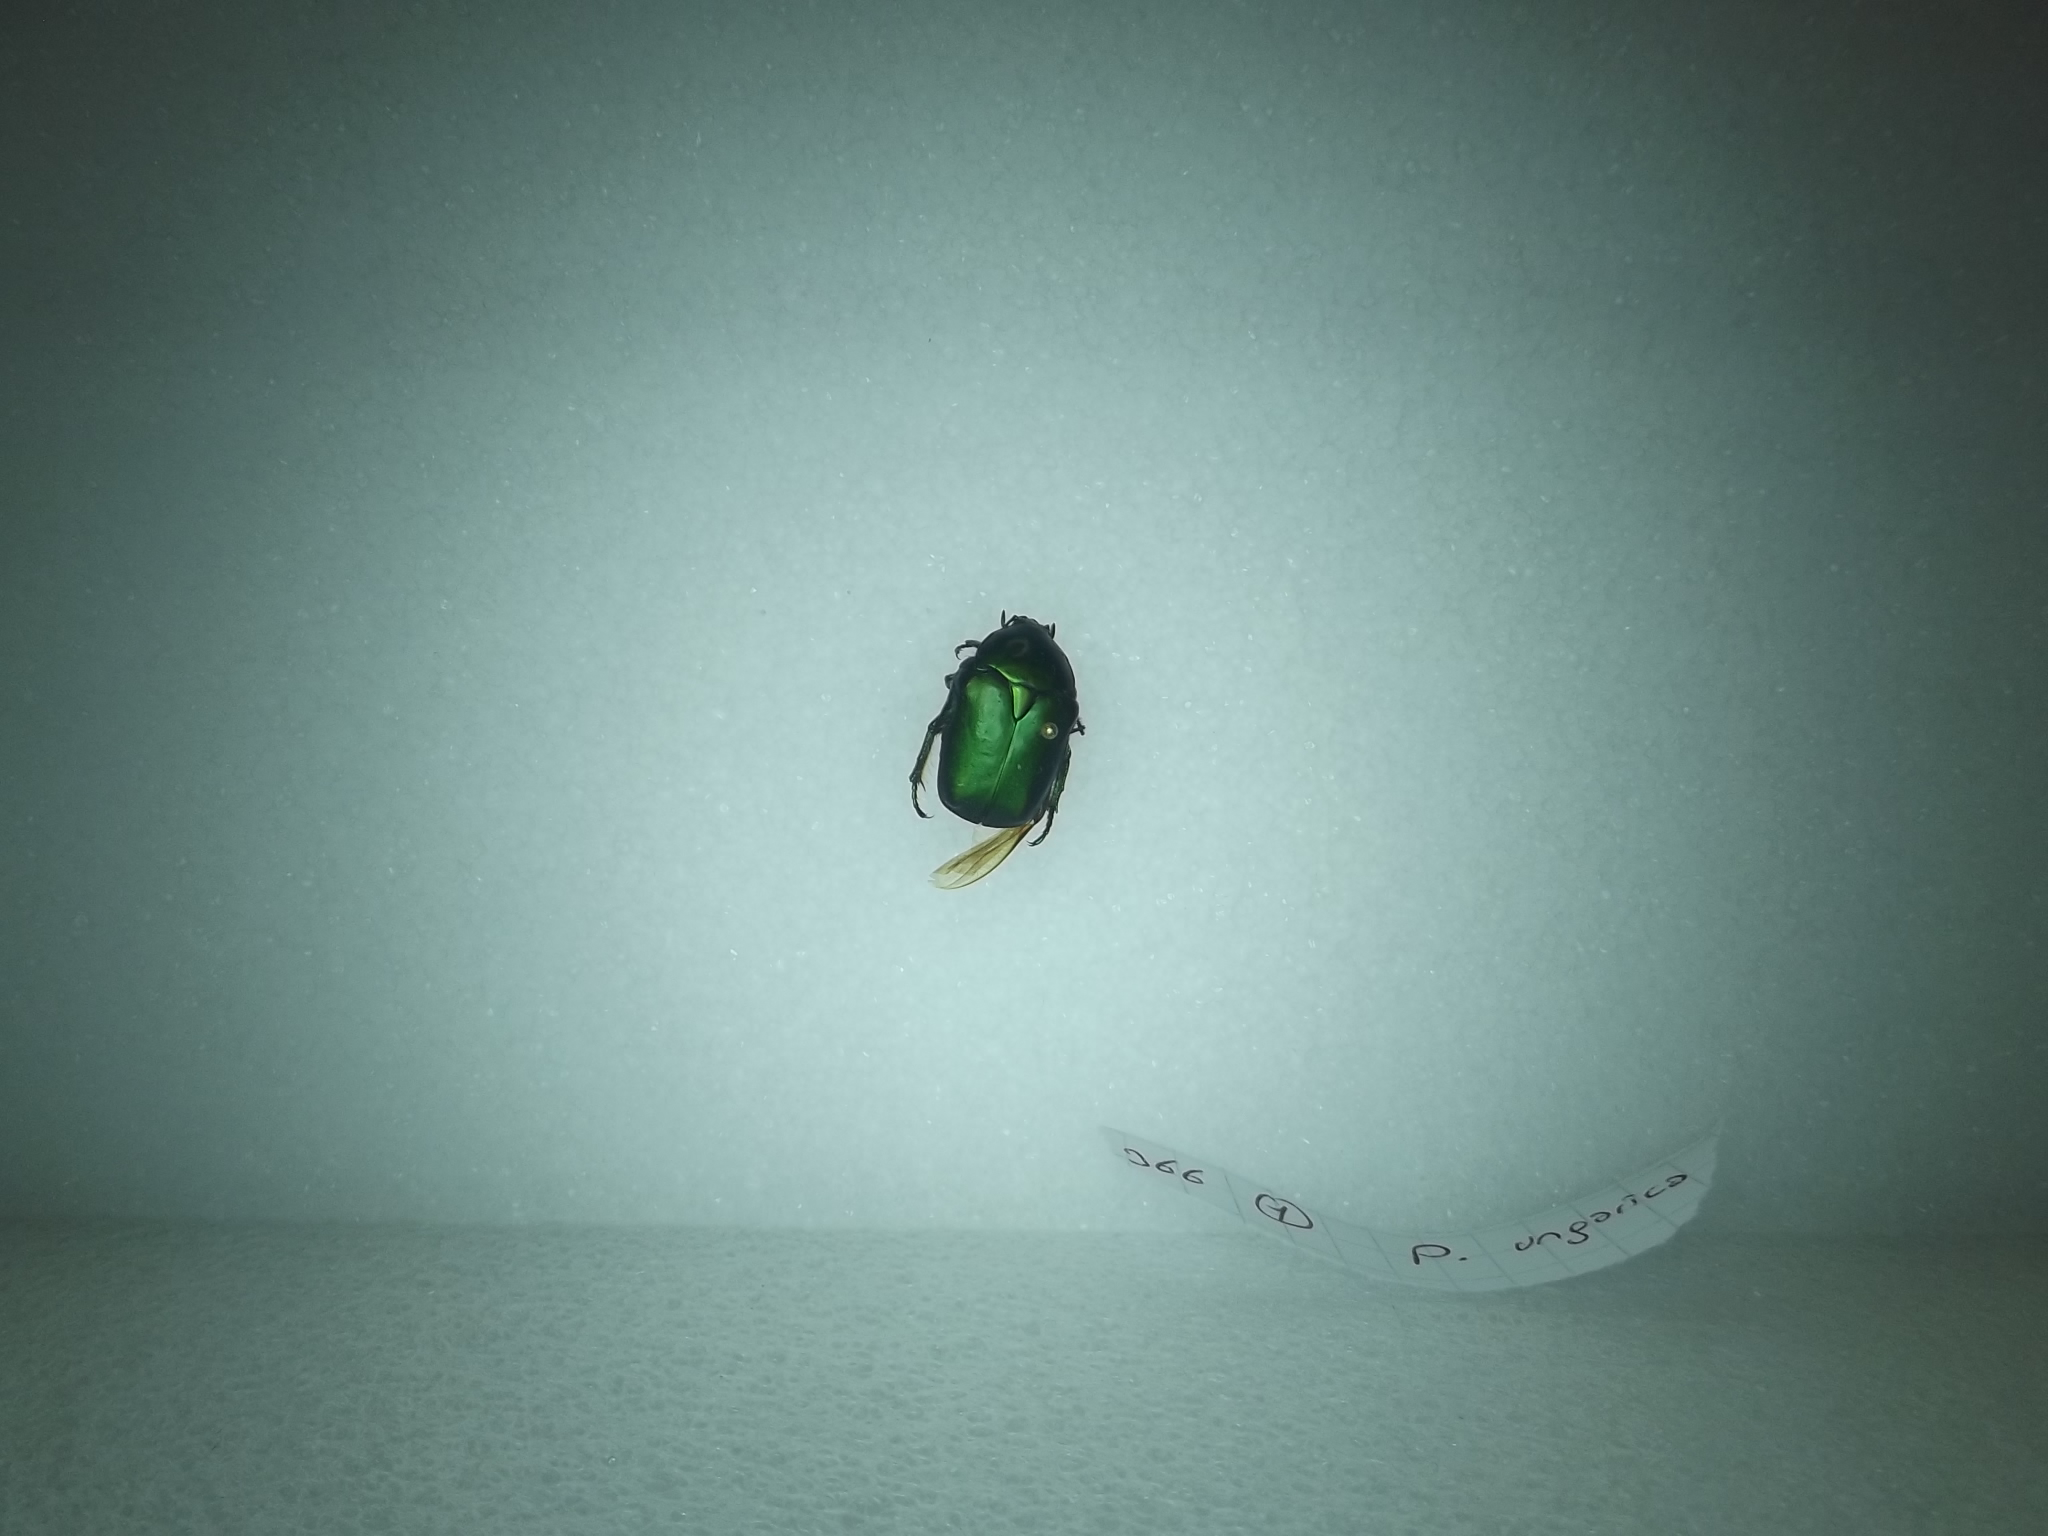Protaetia_ungarica_americana: (884, 607, 1143, 892)
